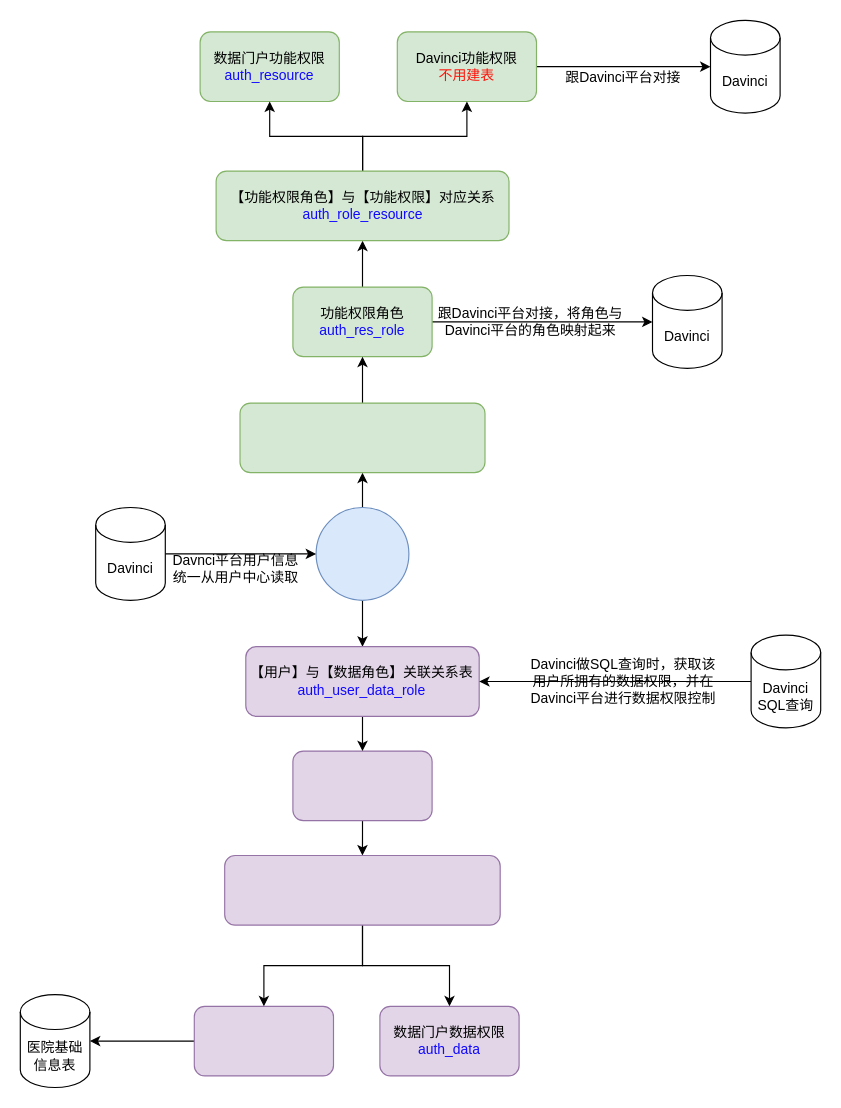
This 841x1108 diagram has some shape labels left out. Here are the shapes that lost their labels. From the top down, the centre of each, then its label:
the point at 362,437: 【用户】与【功能角色】关联关系表 auth_user_resouce_role
the point at 362,553: 用户 dh_user
the point at 362,785: 数据权限角色 auth_data_role
the point at 362,889: 【数据权限角色】 与【数据权限】关联关系 auth_role_data
the point at 263,1040: 医院数据权限 不用建表
